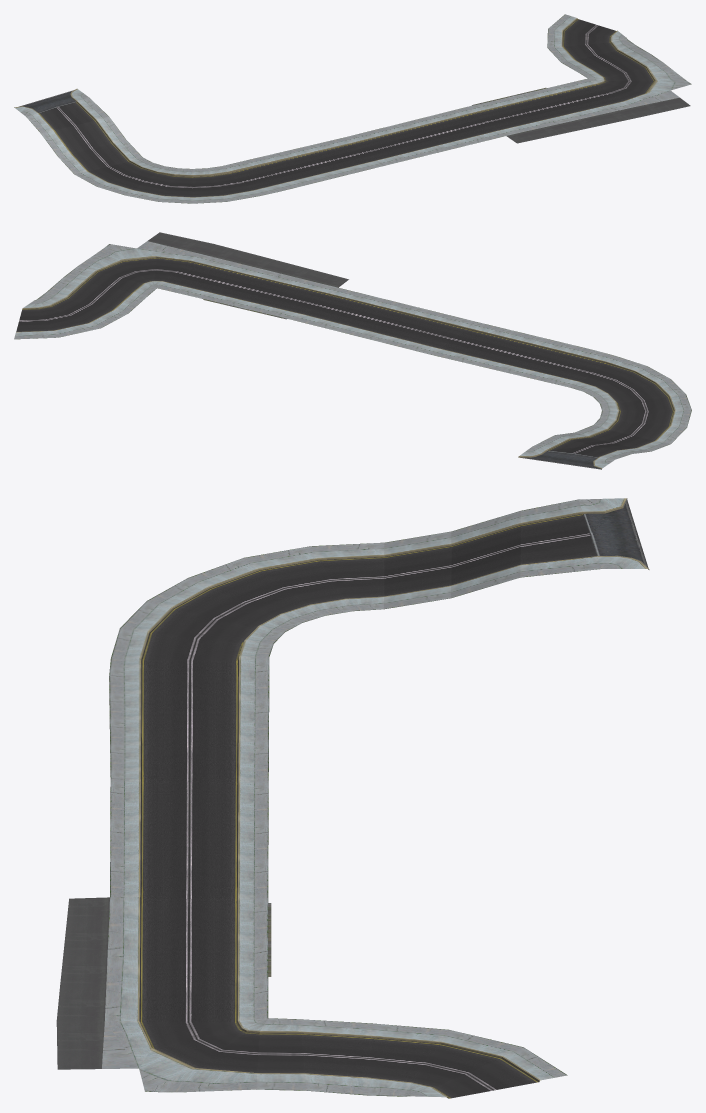
The model's file is roads33_law2.obj.
3 renders of one model, top to bottom at view 1: azimuth 30°, elevation 25°; view 2: azimuth 150°, elevation 25°; view 3: azimuth 270°, elevation 25°, orthographic. The views are drawn at different scales.
Visible parts, largest first — view 1: Roads33_LAw2; view 2: Roads33_LAw2; view 3: Roads33_LAw2.
Part boxes in pixels (left/top/right/bottom): Roads33_LAw2: left=14, top=14, right=691, bottom=203; Roads33_LAw2: left=14, top=232, right=691, bottom=469; Roads33_LAw2: left=56, top=498, right=649, bottom=1098.
Size of the model in its own units: 133 by 6.35 by 60.9.
